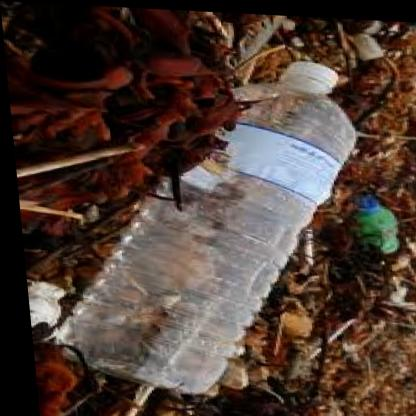Plastic: (52, 33, 369, 408)
